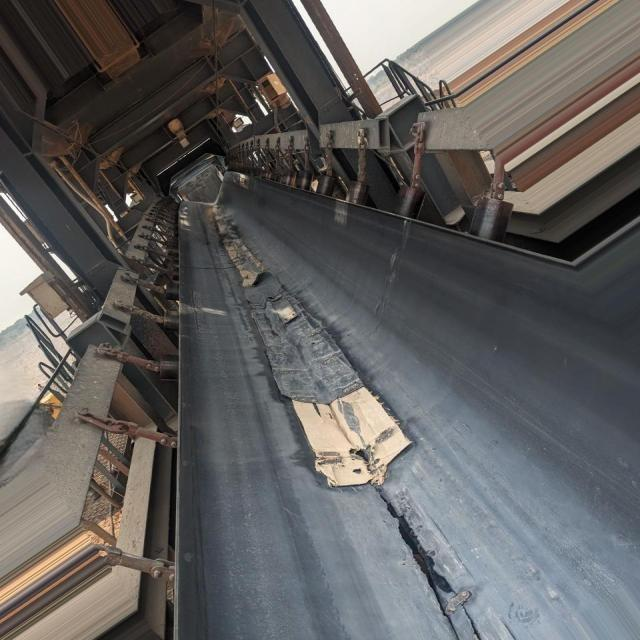Tear: (374, 489, 493, 640)
